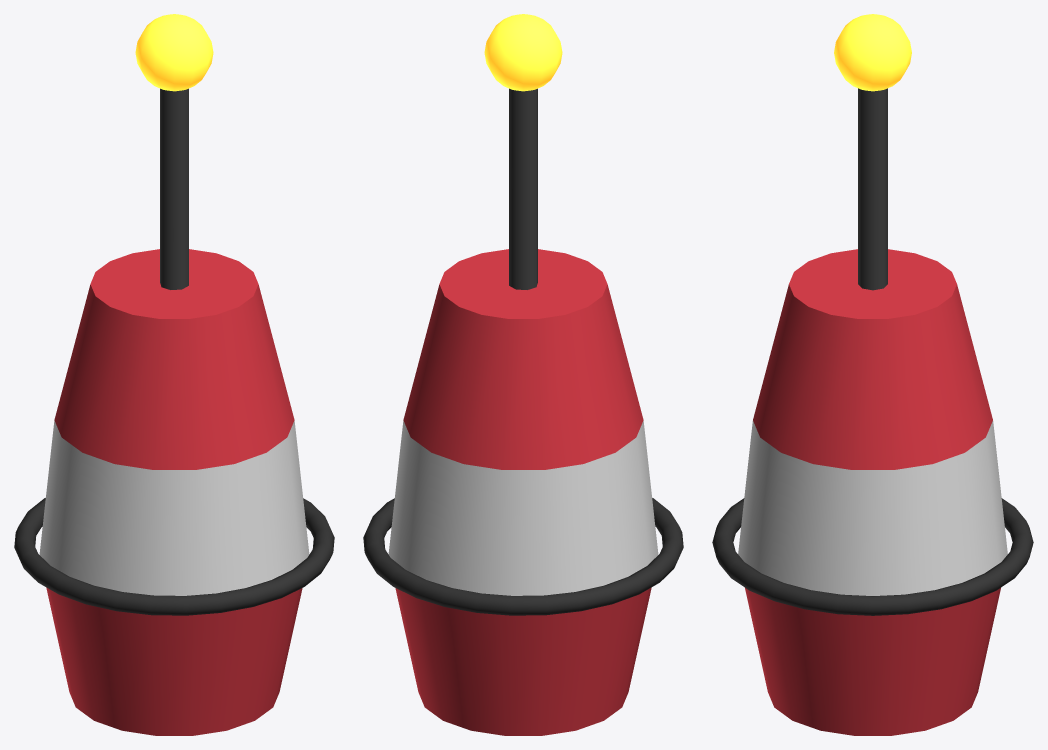
The model's file is buoy.glb.
3 renders of one model, left to right at view 1: azimuth 30°, elevation 25°; view 2: azimuth 150°, elevation 25°; view 3: azimuth 270°, elevation 25°, orthographic.
Visible parts, largest first — view 1: Buoy; view 2: Buoy; view 3: Buoy.
Part boxes in pixels (box(x1,y1,x2,y2)): Buoy: box(14, 14, 334, 735); Buoy: box(363, 14, 683, 735); Buoy: box(712, 14, 1033, 735).
Bounding box in the file's own units: 1.07 × 2.48 × 1.07.
